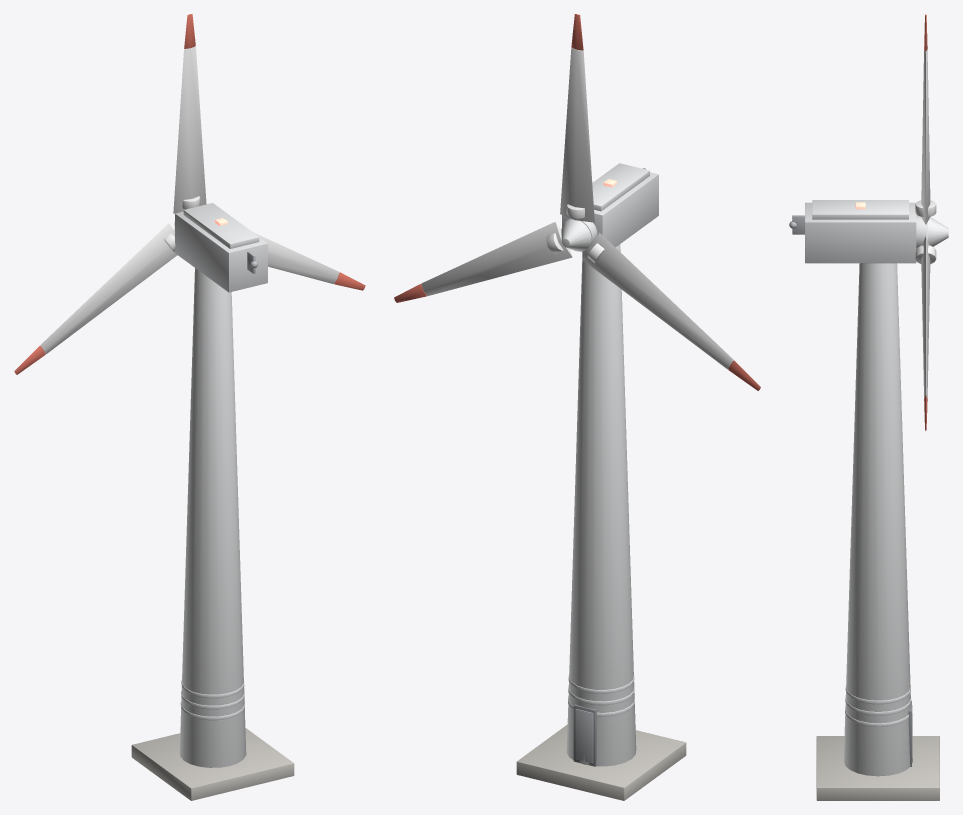
File: th18_windrad.glb
3 views of the same model, side by side, from view 1: azimuth 30°, elevation 25°; view 2: azimuth 150°, elevation 25°; view 3: azimuth 270°, elevation 25° (orthographic). The views are drawn at different scales.
Parts seen in each view (by area): view 1: Cone, Cube, Cube.003, Cone.002, Cone.004, Cube.004, Cone.006; view 2: Cone, Cube, Cone.002, Cone.004, Cone.006, Cube.003, Cube.004, Cube.002, Cone.001; view 3: Cone, Cube, Cube.003, Cube.004, Cone.002, Cone.006, Cone.001, Cylinder.001.
Boxes of the visible parts, x1=… form: Cone: x1=179, y1=268, x2=246, y2=767; Cube: x1=131, y1=728, x2=294, y2=800; Cube.003: x1=175, y1=211, x2=267, y2=292; Cone.002: x1=173, y1=46, x2=206, y2=213; Cone.004: x1=40, y1=223, x2=177, y2=353; Cube.004: x1=183, y1=203, x2=259, y2=248; Cone.006: x1=253, y1=232, x2=339, y2=283; Cone: x1=566, y1=244, x2=636, y2=766; Cube: x1=516, y1=724, x2=686, y2=800; Cone.002: x1=560, y1=48, x2=594, y2=222; Cone.004: x1=582, y1=232, x2=733, y2=369; Cone.006: x1=421, y1=222, x2=572, y2=296; Cube.003: x1=562, y1=172, x2=658, y2=252; Cube.004: x1=592, y1=163, x2=649, y2=211; Cube.002: x1=575, y1=709, x2=593, y2=763; Cone.001: x1=561, y1=219, x2=591, y2=251; Cone: x1=843, y1=263, x2=912, y2=776; Cube: x1=816, y1=736, x2=939, y2=800; Cube.003: x1=805, y1=202, x2=916, y2=263; Cube.004: x1=812, y1=200, x2=908, y2=219; Cone.002: x1=921, y1=50, x2=930, y2=224; Cone.006: x1=921, y1=236, x2=930, y2=398; Cone.001: x1=927, y1=217, x2=948, y2=246; Cylinder.001: x1=845, y1=698, x2=911, y2=715.
Bounding box in the file's own units: 14.28 × 28.6 × 5.44.
